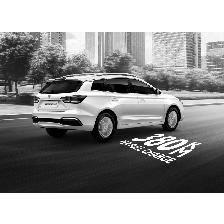EV: (33, 72, 185, 139)
